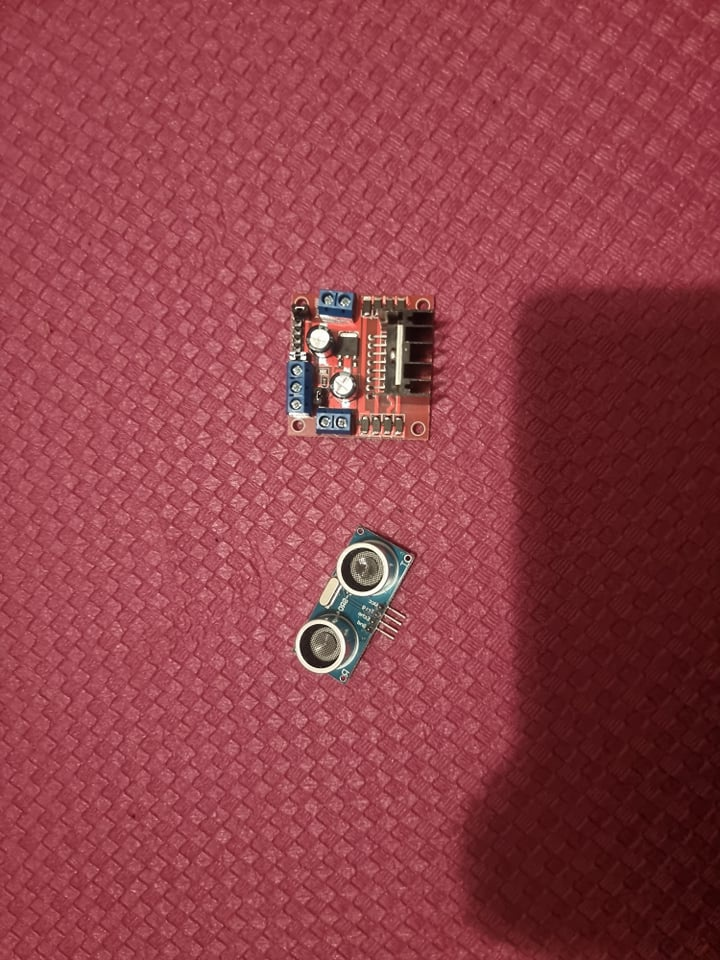MOTOR: (285, 287, 443, 439)
SENSOR: (287, 523, 412, 688)
